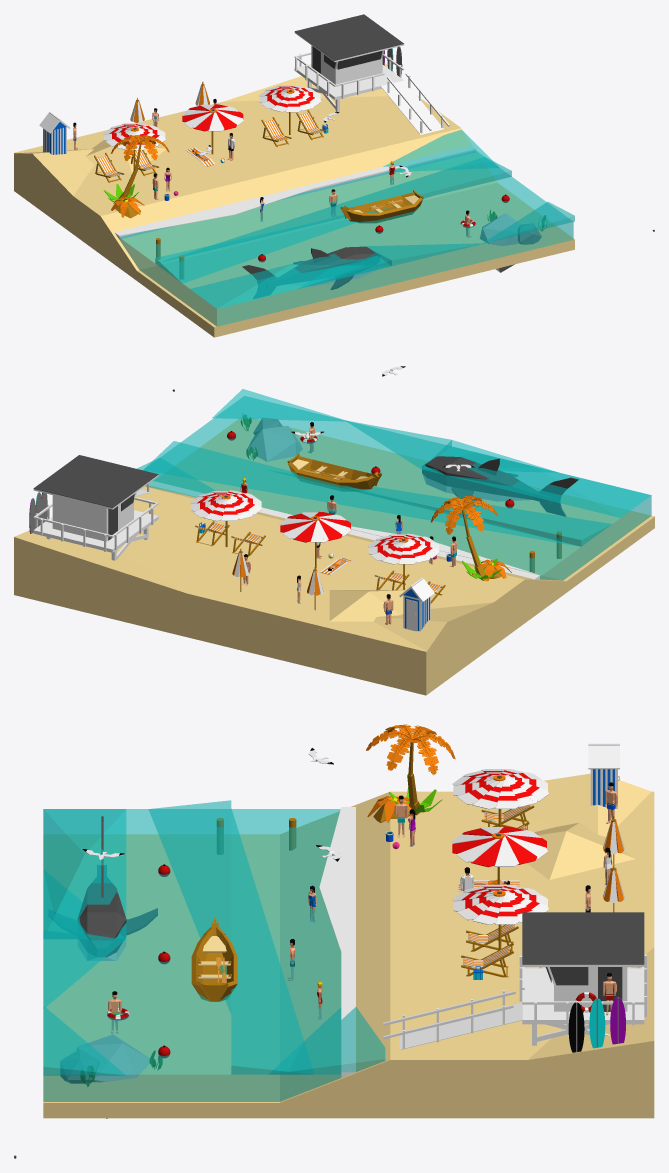
File: asa.glb
The picture shows the model from 3 angles, top to bottom: view 1: azimuth 30°, elevation 25°; view 2: azimuth 150°, elevation 25°; view 3: azimuth 270°, elevation 25°; orthographic projection. The views are drawn at different scales.
Visible parts, largest first — view 1: box (×8), wedge (×2), cornerPyramid3 (×8), pyramid4 (×2), icosahedron; view 2: box (×8), cornerPyramid3 (×9), pyramid4 (×2), wedge (×2), icosahedron; view 3: box (×11), cornerPyramid3 (×9), wedge (×5), pyramid4 (×2), icosahedron (×2).
Boxes of the visible parts, left/top/right/bottom form: box (×8): left=14, top=14, right=574, bottom=337; wedge (×2): left=100, top=128, right=496, bottom=273; cornerPyramid3 (×8): left=32, top=63, right=574, bottom=288; pyramid4 (×2): left=86, top=140, right=390, bottom=308; icosahedron: left=480, top=213, right=520, bottom=272; box (×8): left=14, top=396, right=654, bottom=695; cornerPyramid3 (×9): left=14, top=389, right=611, bottom=651; pyramid4 (×2): left=319, top=447, right=651, bottom=629; wedge (×2): left=145, top=473, right=568, bottom=613; icosahedron: left=247, top=426, right=302, bottom=461; box (×11): left=43, top=745, right=654, bottom=1118; cornerPyramid3 (×9): left=43, top=773, right=654, bottom=1075; wedge (×5): left=87, top=792, right=390, bottom=1106; pyramid4 (×2): left=43, top=809, right=654, bottom=938; icosahedron (×2): left=60, top=1034, right=149, bottom=1118.
Bounding box in the file's own units: 311 × 84.87 × 262.
